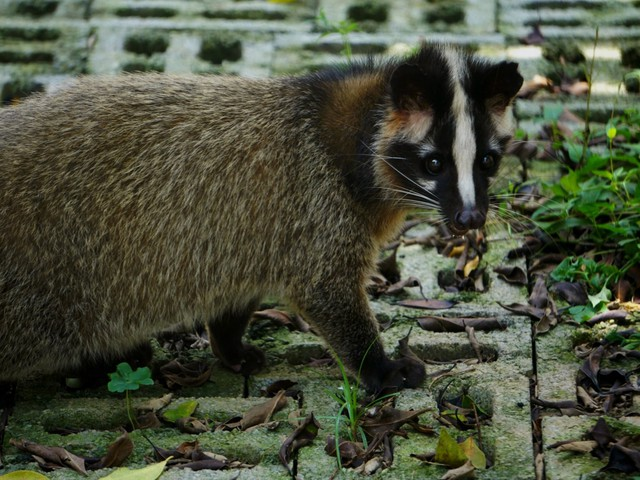civet: (1, 36, 526, 399)
